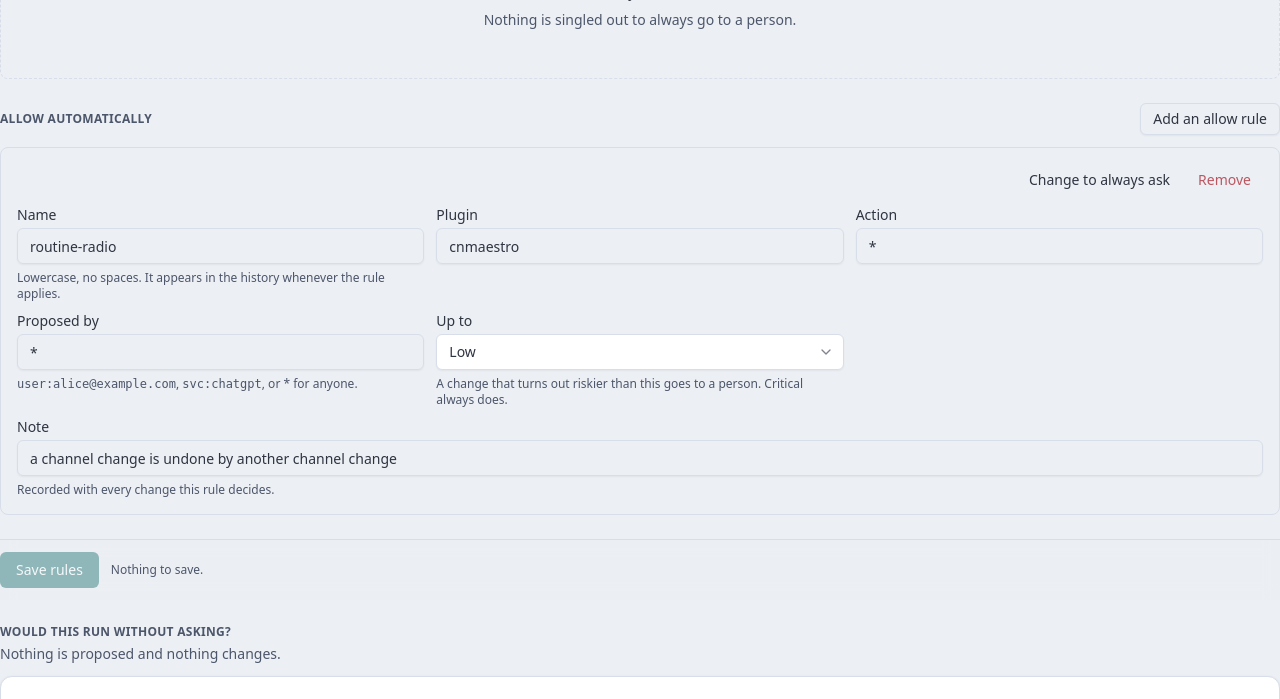
Test case: saving › says nothing was stored when the set is refused, and shows why
(page scrolled)
Check: the heading "Allow automatically" is shown, box [0, 111, 152, 127]
Type "svc:chatgpt" into the field labelled "Proposed by". click: coordinates (221, 352)
box: [17, 334, 424, 370]
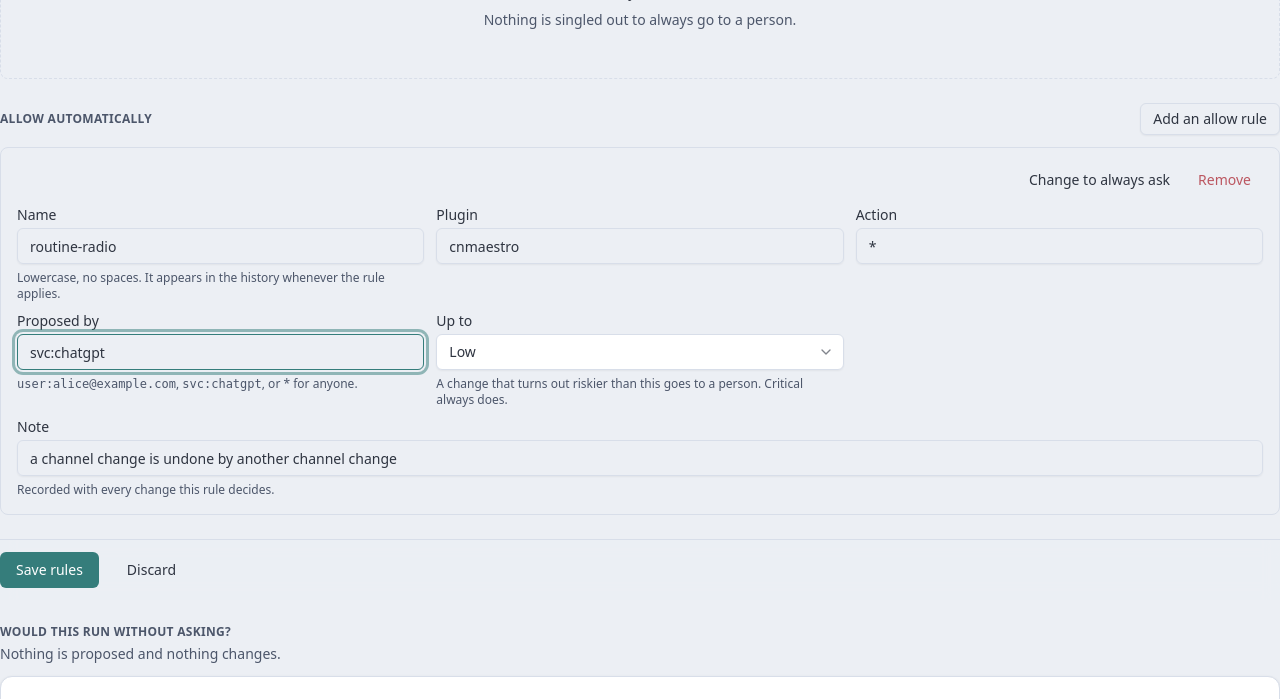
Click the button "Save rules". click: coordinates (49, 570)
box: [0, 552, 99, 588]
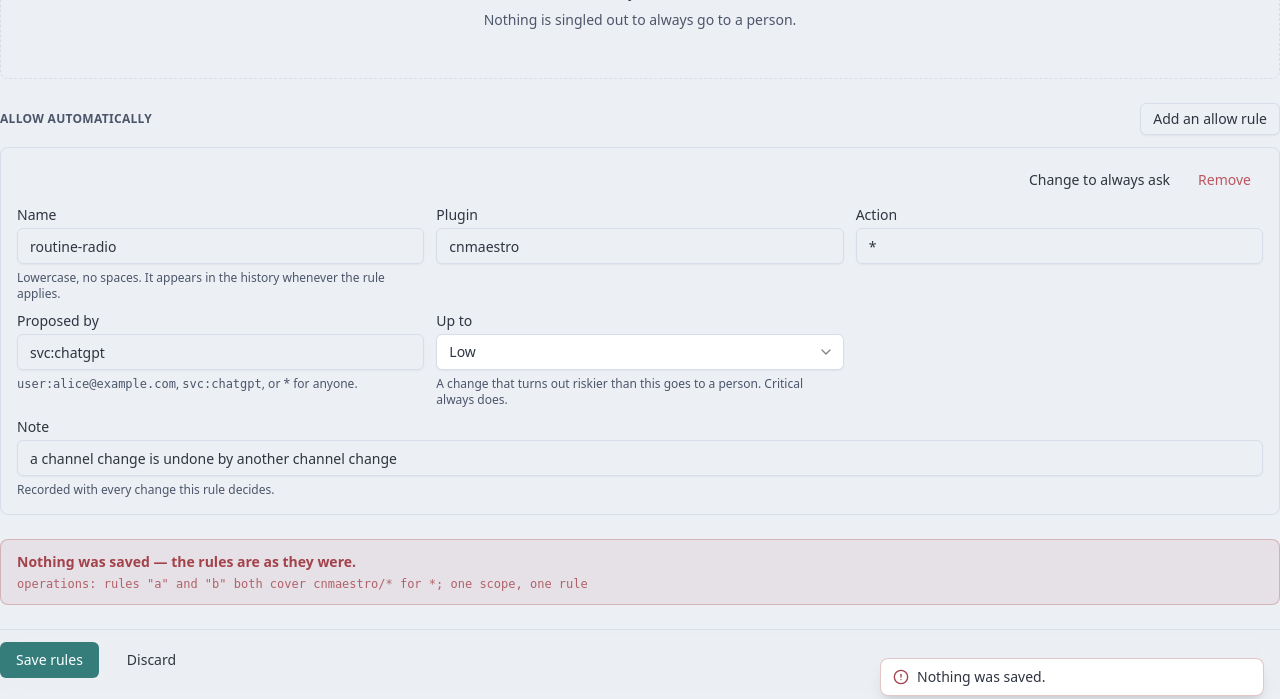
Check: the text "Nothing was saved — the rules are as they were." is shown, box [17, 552, 356, 571]
Check: the text "one scope, one rule" is shown, box [17, 577, 588, 591]
